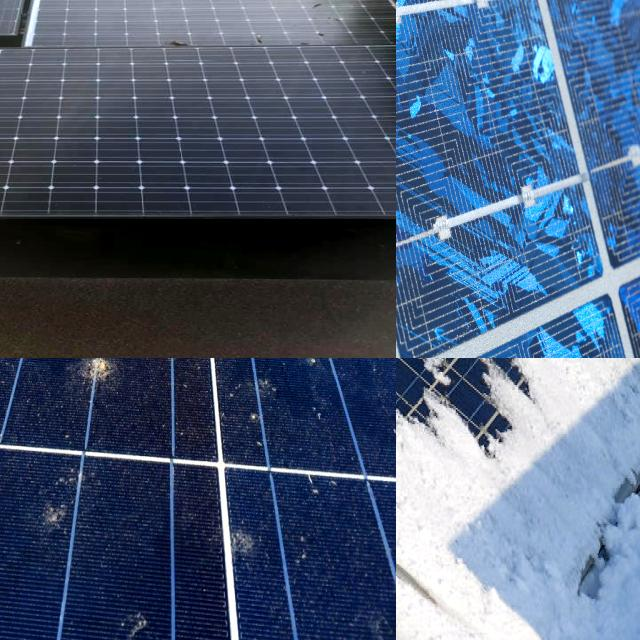bird: (28, 448, 95, 550), (224, 525, 308, 588), (0, 358, 75, 425), (101, 586, 172, 640), (221, 358, 303, 395), (61, 358, 137, 397), (0, 375, 52, 428), (161, 358, 225, 392), (355, 589, 396, 640), (76, 358, 132, 392), (269, 358, 324, 380), (0, 358, 29, 394)
crack: (396, 0, 640, 358)
dust: (0, 64, 191, 195), (252, 86, 396, 208), (0, 78, 83, 176)
panel: (396, 358, 504, 517), (396, 363, 513, 485), (396, 426, 482, 591), (396, 562, 549, 640), (396, 495, 472, 640), (424, 358, 562, 414), (491, 358, 598, 404), (396, 387, 463, 454), (463, 358, 562, 394), (577, 358, 640, 400), (396, 358, 441, 394)
